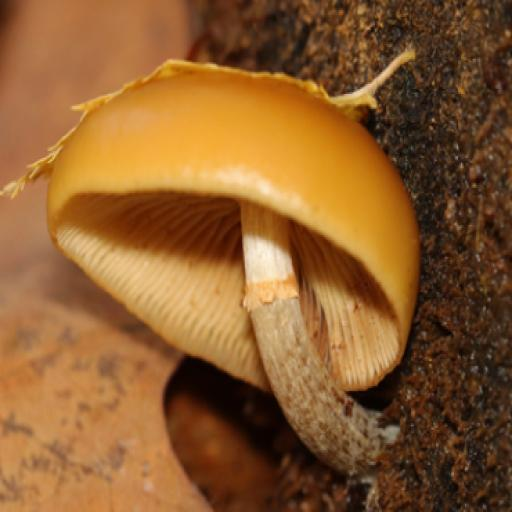mushroom: (46, 63, 421, 474)
